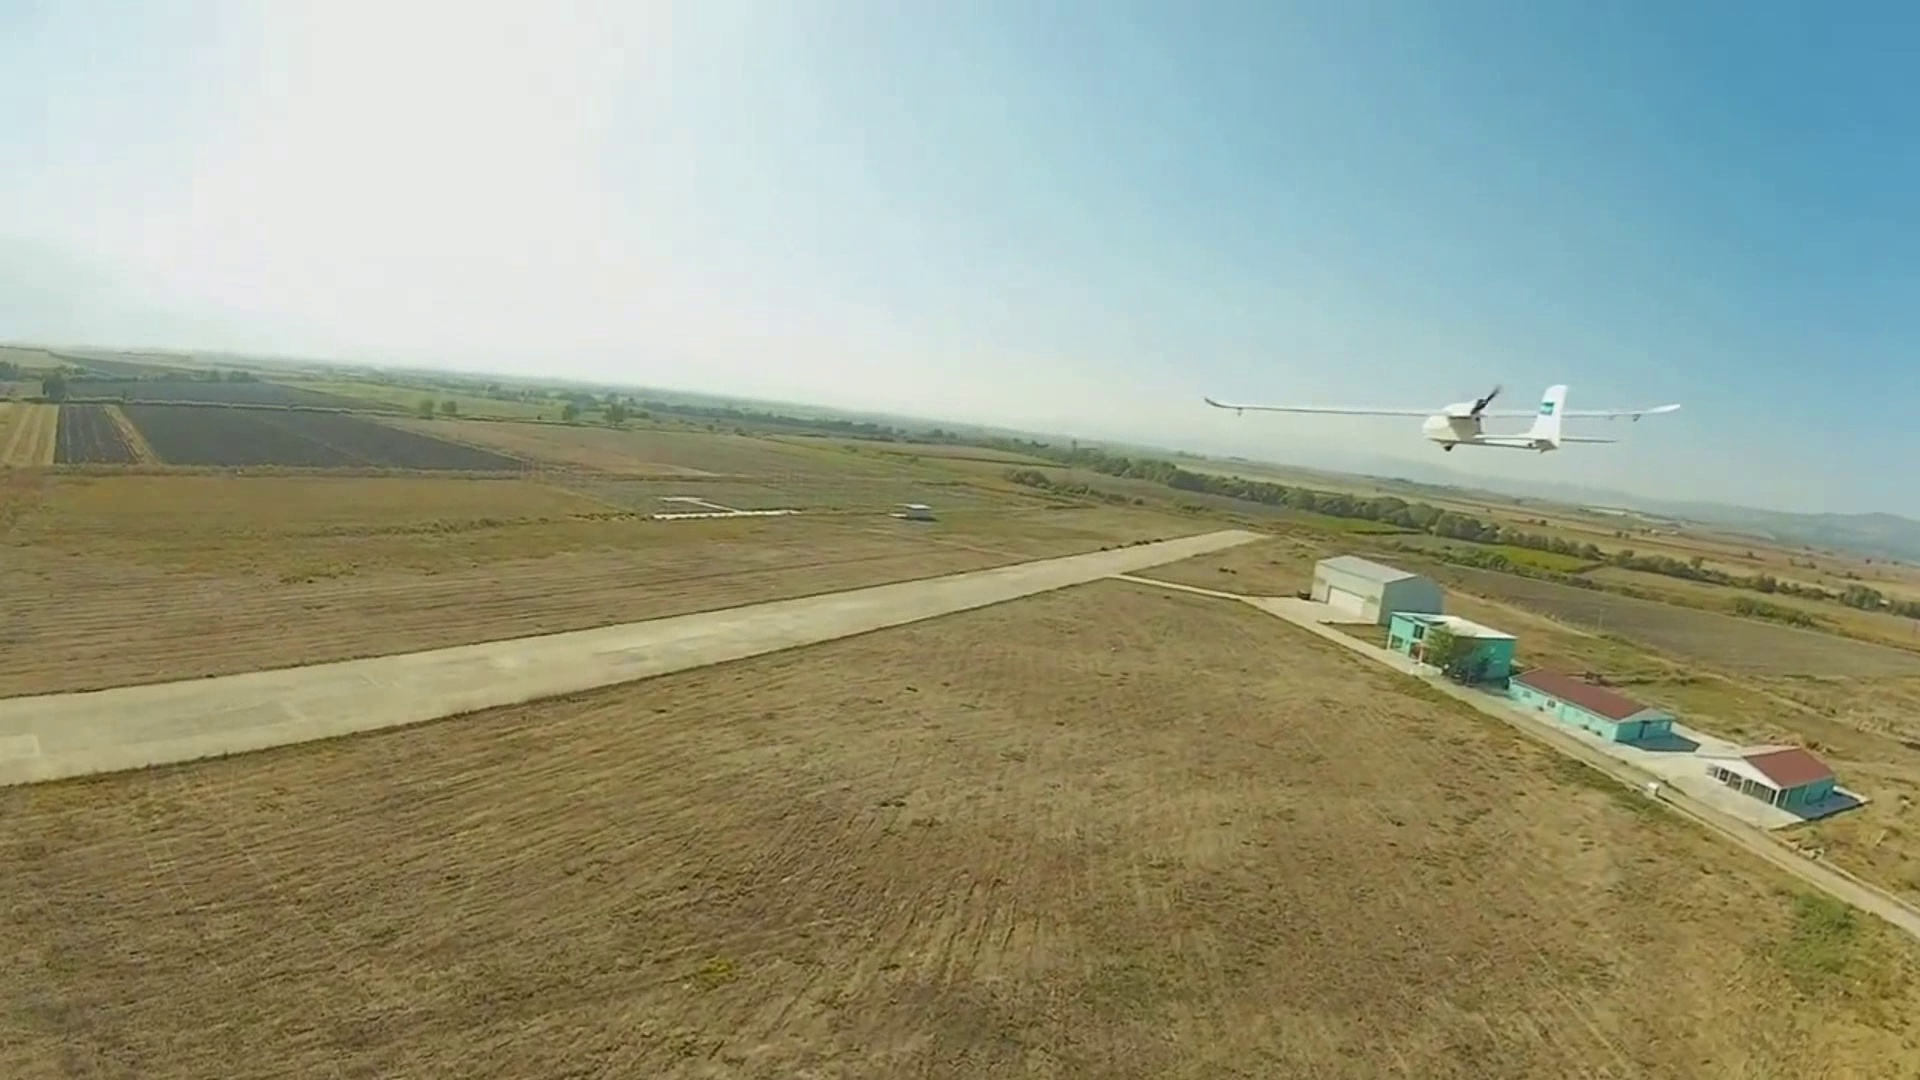airplane: (1199, 377, 1682, 452), (1421, 383, 1578, 456)
